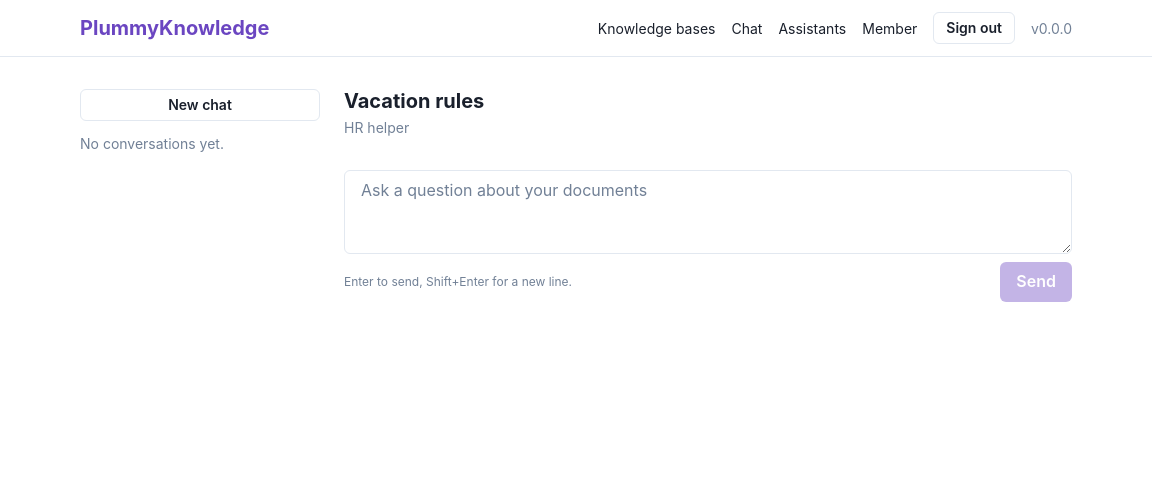
Test: chat › keeps the partial answer and shows the request ID when the stream fails
The width and height of the screenshot is (1152, 504).
Type "Question" into the text box named "Message" at (708, 212), box [344,170,1072,254]
Then press Enter
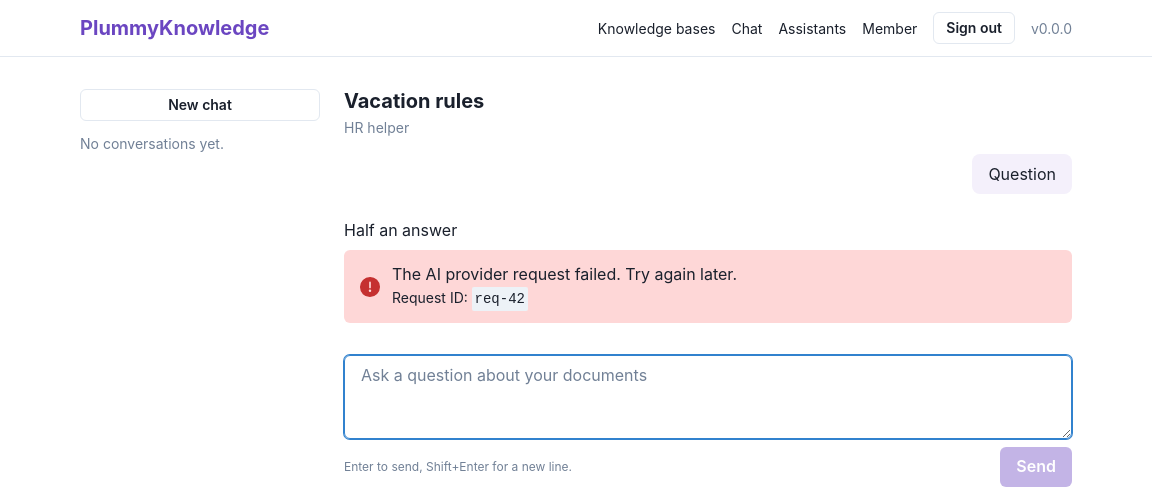
Result: the message with test id "turn-error" shows "The AI provider request failed. Try again later." at [392,264,737,284]
Result: the message with test id "turn-error" shows "req-42" at [474,291,525,307]
Result: the element with test id "answer" reads "Half an answer" at [344,220,457,240]
